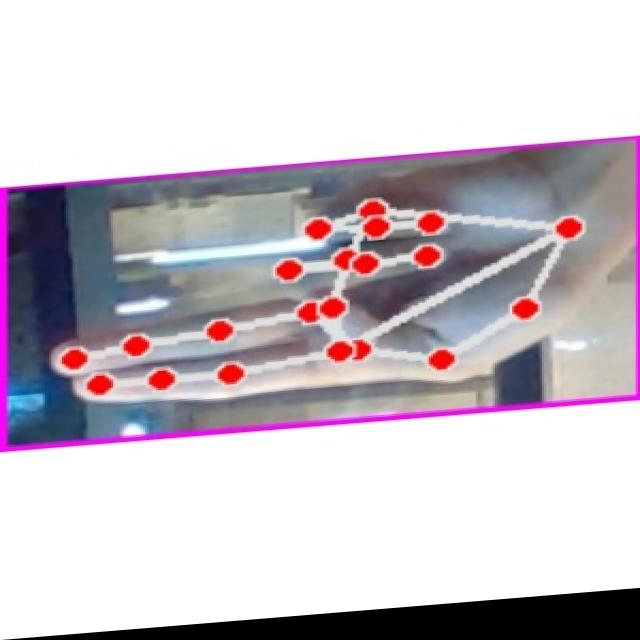H: (39, 159, 613, 413)
